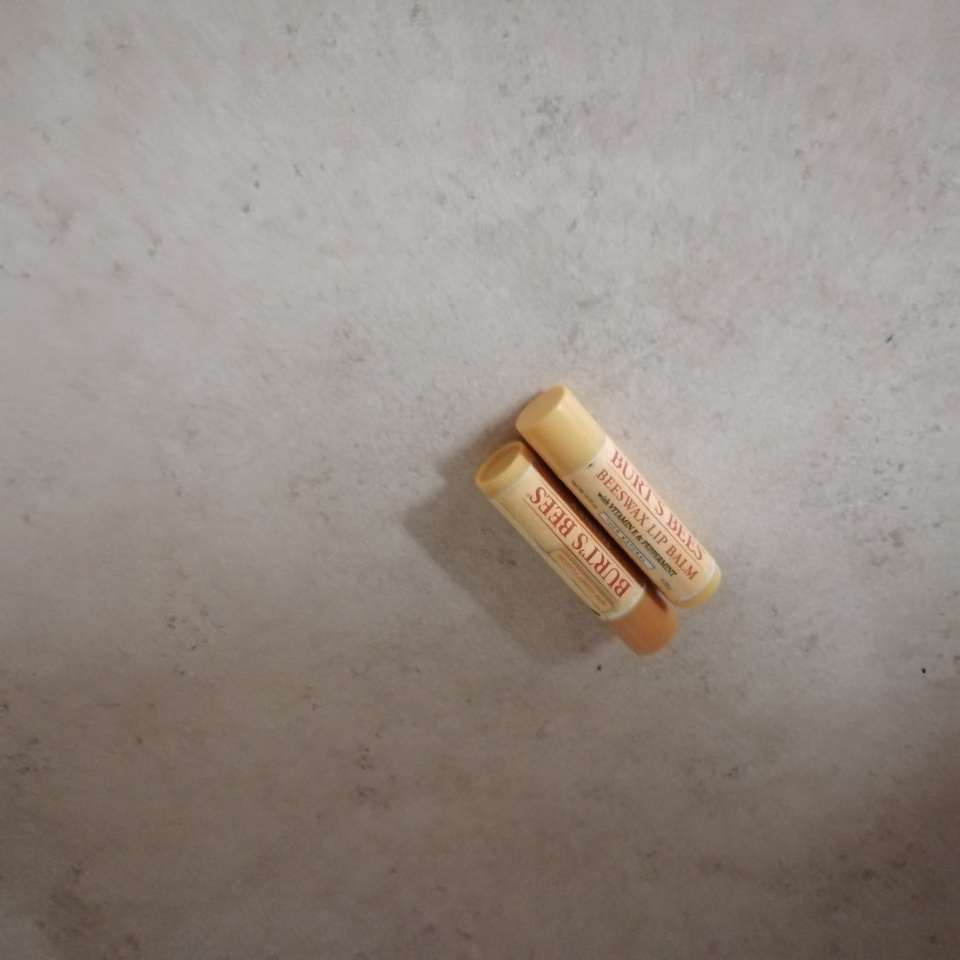chapstick: (516, 386, 722, 611), (476, 441, 680, 656)
